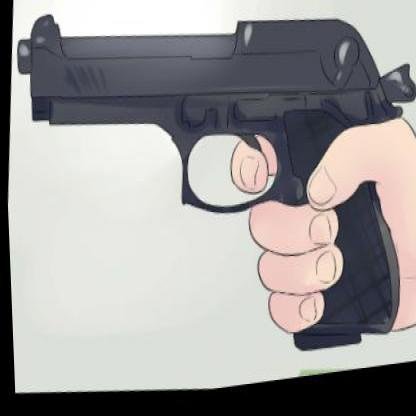pistol: (0, 0, 415, 403)
